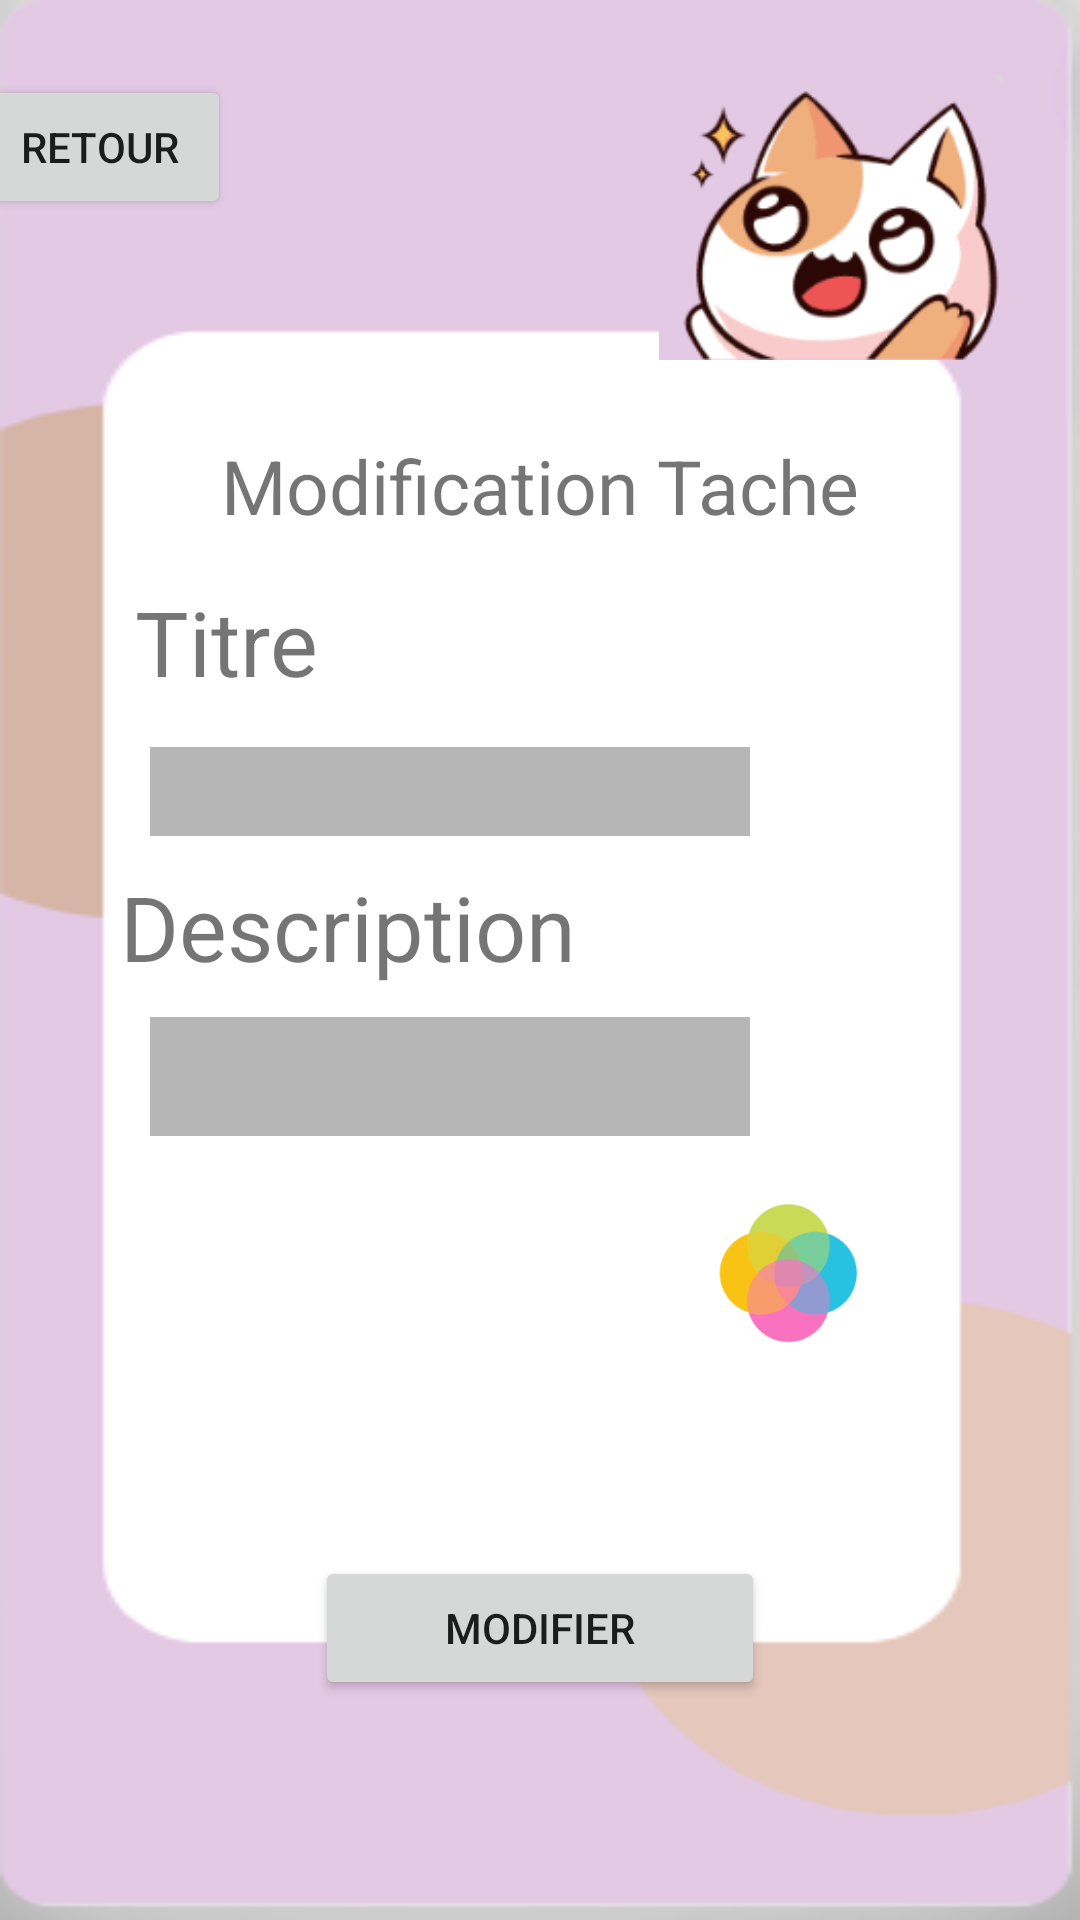

Named icons in this screenshot (1080×1920) and their centers, (x,y):
panelle couleur: (788,1273)
